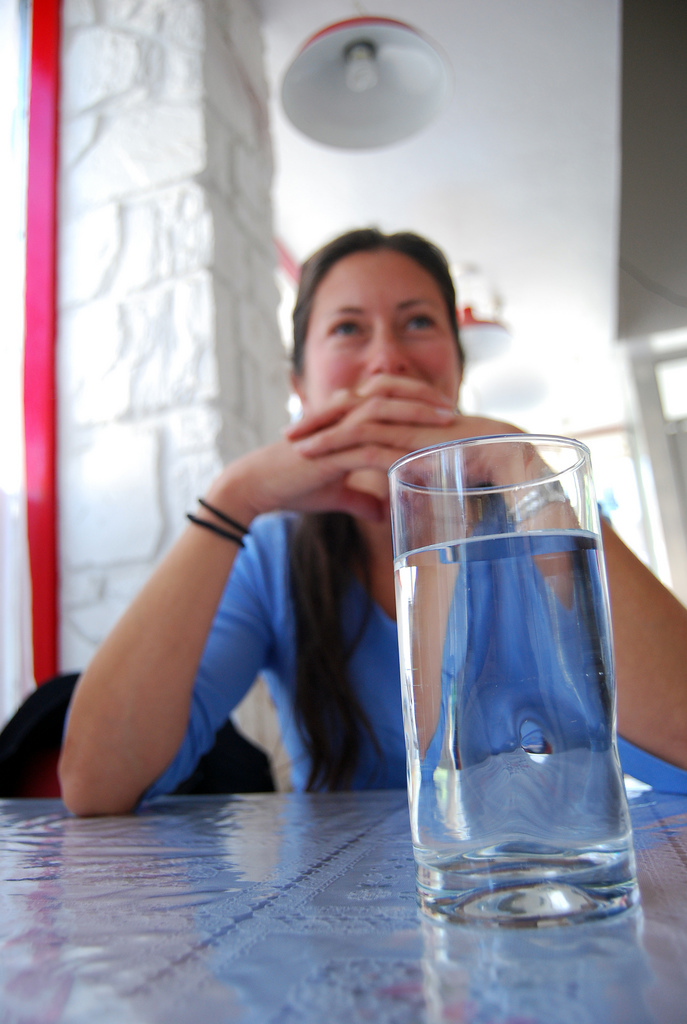glass of water: (375, 437, 636, 927)
